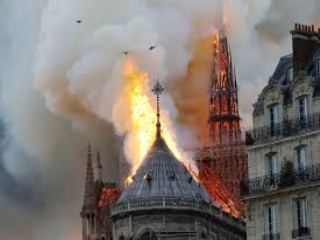fire: (117, 60, 193, 177)
smoke: (40, 5, 139, 140)
